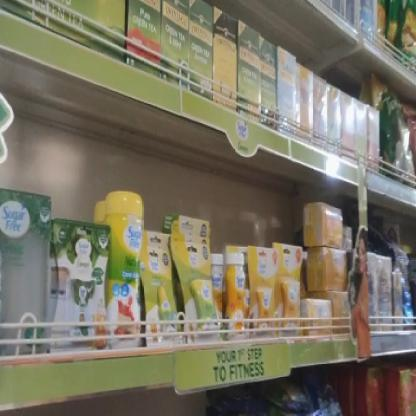SUGAR FREE GOLD 500 PELLET: (245, 249, 274, 337), (274, 254, 302, 333)
SUGAR FREE GOLD POWDER 100GM: (224, 253, 245, 337)
SUGAR FREE GOLD SACHET 50 SUGAR FREE GOLD SACHET 50: (322, 256, 348, 294), (322, 204, 344, 244)
SUGAR FREE GRN 300 PELLET: (54, 226, 104, 348)
SUGAR FREE NATURA 500 PELLET: (184, 254, 212, 349)
SUGAR FREE NATURA DIET SUGAR: (107, 195, 139, 345)
SUGAR FREE NATURA SWEET DROPS: (148, 270, 176, 344)
